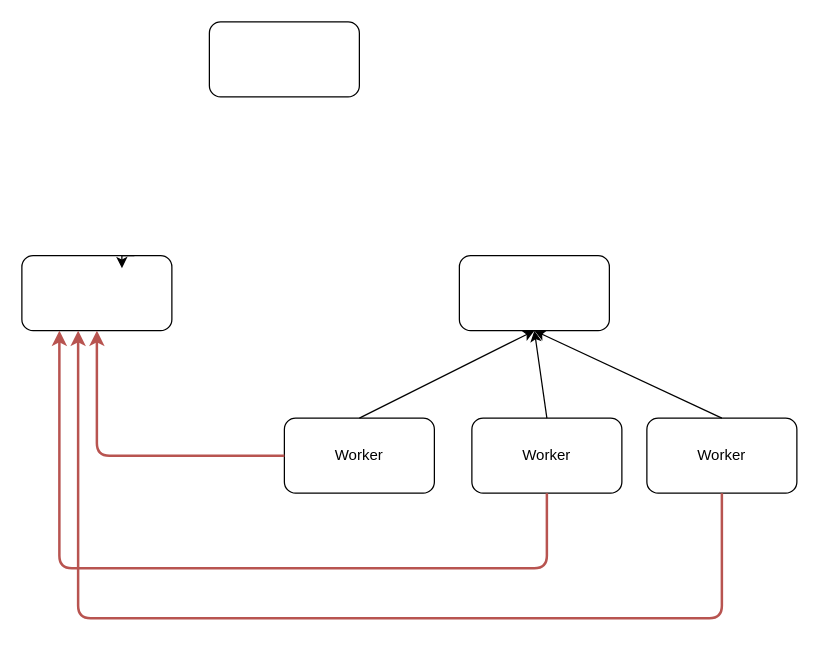
The diagram is 819 pixels wide and 651 high, and some of its shapes have lost their labels. Here are the shapes that lost their labels. From the top down, the centre of each, then its label:
At point (96, 292): "WorkerServer".
At point (533, 292): "WorkerSup".
